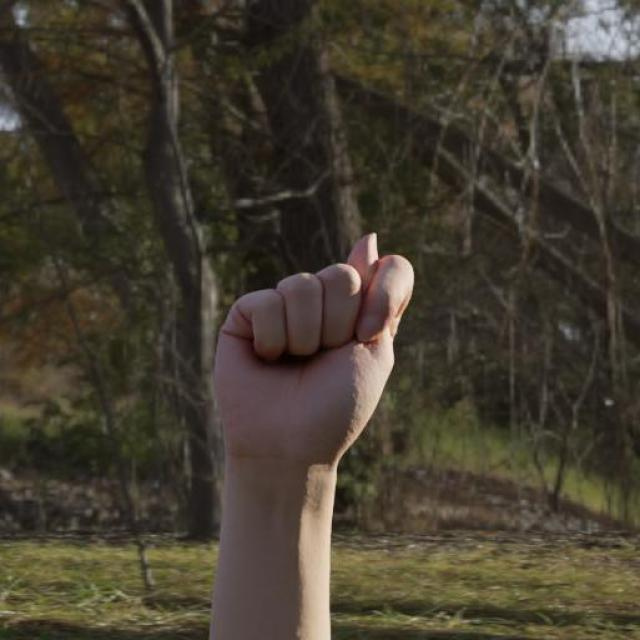T: (204, 224, 424, 473)
